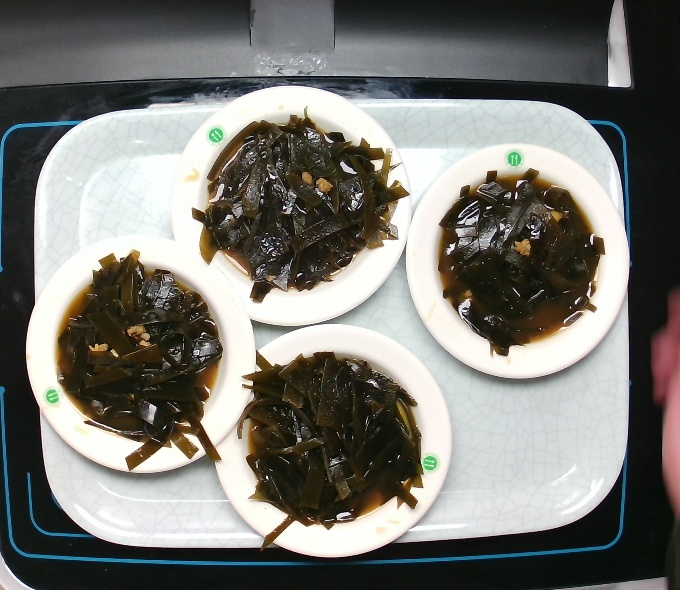wcq-HaiDai: (200, 114, 405, 303), (56, 251, 229, 473), (236, 354, 426, 539), (435, 161, 605, 359)
